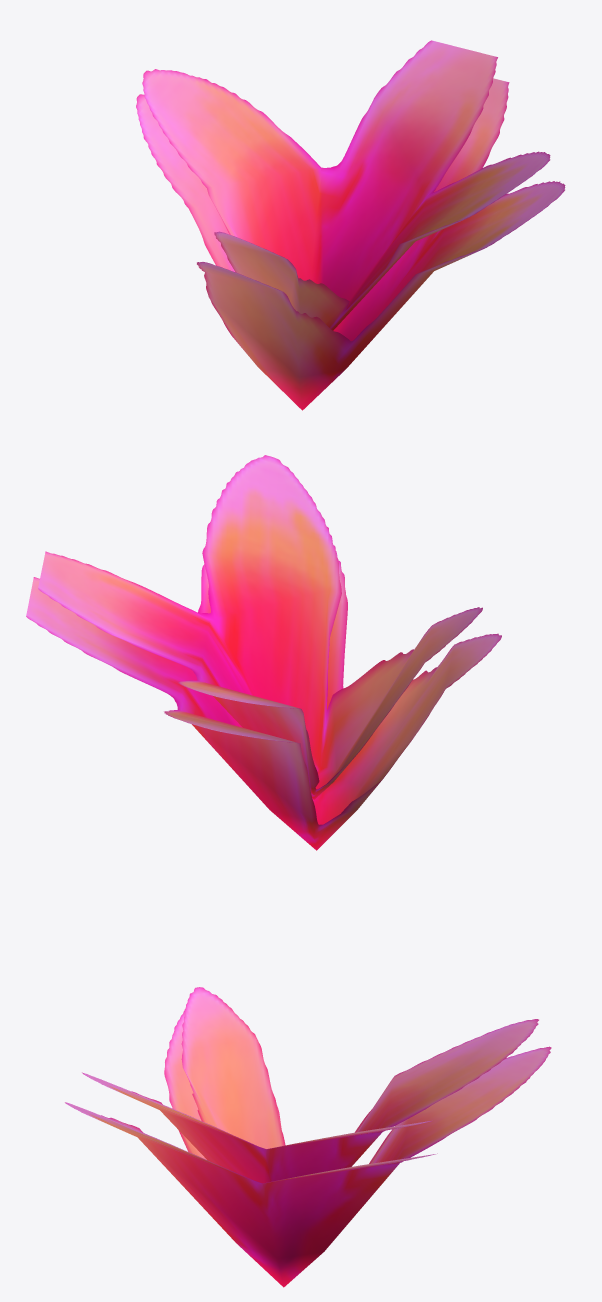
Rendered from SE_Blossom_02.fbx.
3 renders of one model, top to bottom at view 1: azimuth 30°, elevation 25°; view 2: azimuth 150°, elevation 25°; view 3: azimuth 270°, elevation 25°, orthographic.
Parts seen in each view (by area): view 1: SE_Blossom_02; view 2: SE_Blossom_02; view 3: SE_Blossom_02.
Boxes of the visible parts, x1=… form: SE_Blossom_02: x1=136, y1=40, x2=565, y2=410; SE_Blossom_02: x1=26, y1=455, x2=501, y2=850; SE_Blossom_02: x1=65, y1=987, x2=551, y2=1287.
Bounding box in the file's own units: 1.07 × 0.5566 × 0.9742.
